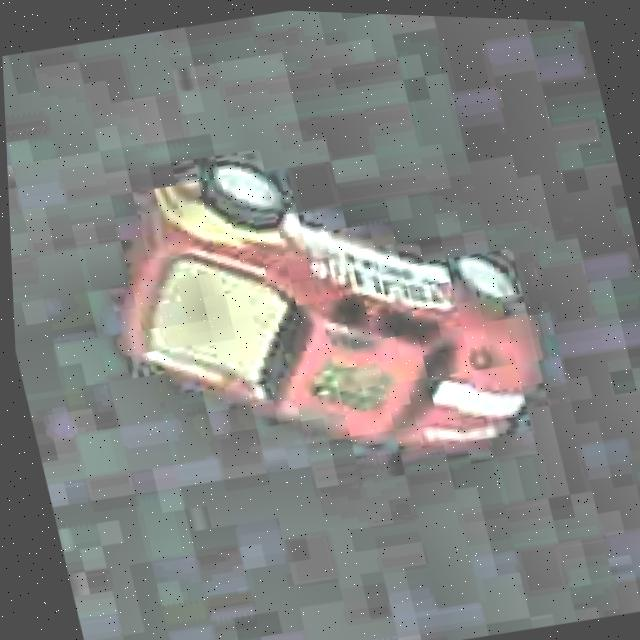car: (75, 96, 569, 521)
